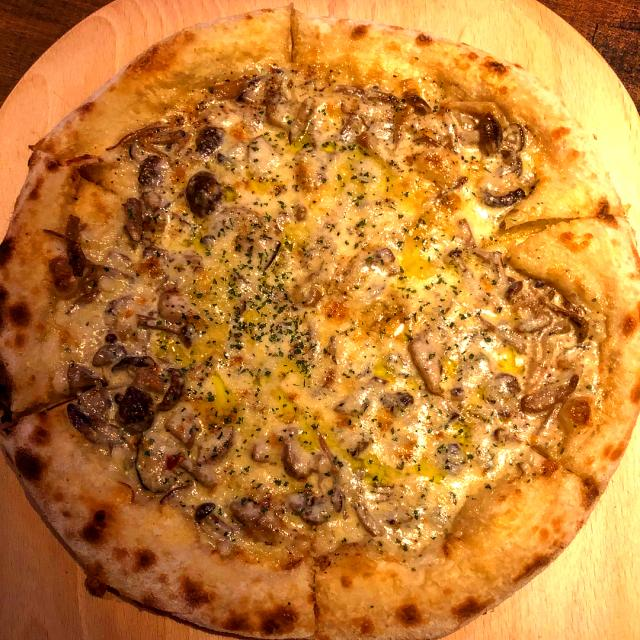mushrooms: (48, 210, 117, 299), (136, 278, 215, 344), (339, 80, 404, 154), (258, 64, 318, 142), (390, 81, 447, 154), (166, 410, 237, 467), (107, 120, 193, 162), (410, 334, 464, 400), (66, 393, 126, 449), (352, 488, 410, 542), (471, 245, 524, 303), (281, 437, 343, 486), (138, 437, 188, 496), (281, 486, 351, 528), (472, 362, 522, 420), (92, 332, 158, 374), (227, 492, 283, 541), (532, 299, 590, 346), (64, 356, 109, 416), (126, 150, 174, 206), (116, 197, 173, 244), (519, 372, 581, 414), (473, 108, 527, 156), (477, 314, 540, 355), (182, 170, 232, 220), (140, 366, 190, 410), (116, 382, 158, 434), (192, 121, 232, 166), (474, 179, 528, 210), (244, 437, 274, 465), (373, 248, 396, 266)
pizza: (0, 9, 640, 640)
